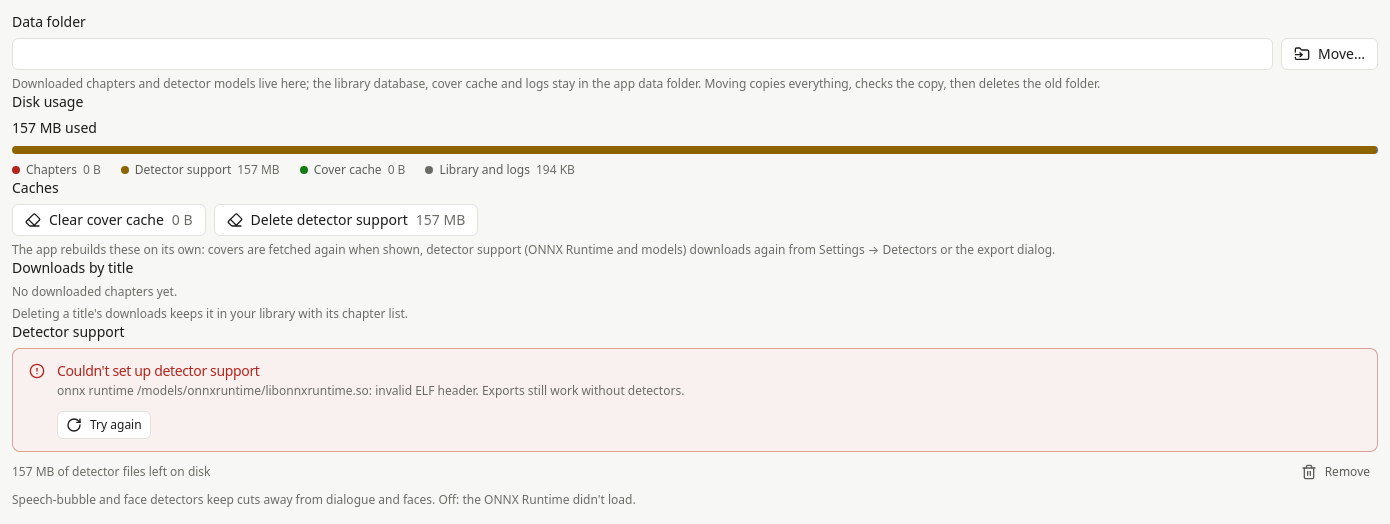
Test: Detector support after a delete (#170, #211) › Storage → Delete detector support drops the old runtime error (#211)
Click the button "Delete detector support 157 MB". click: (346, 220)
box: [214,204,478,236]
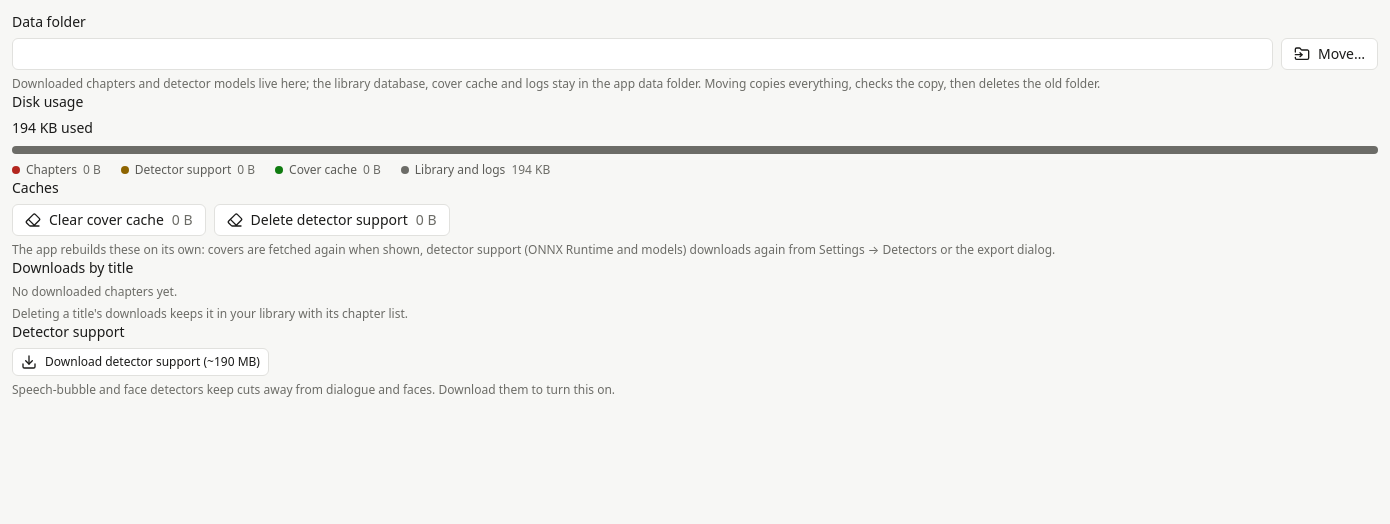
Now the button "Download detector support (~190 MB)" is shown, box [12,348,269,376]
Now the button "Try again" is gone
Now the text "Download them to turn this on" is shown, box [12,381,615,398]
